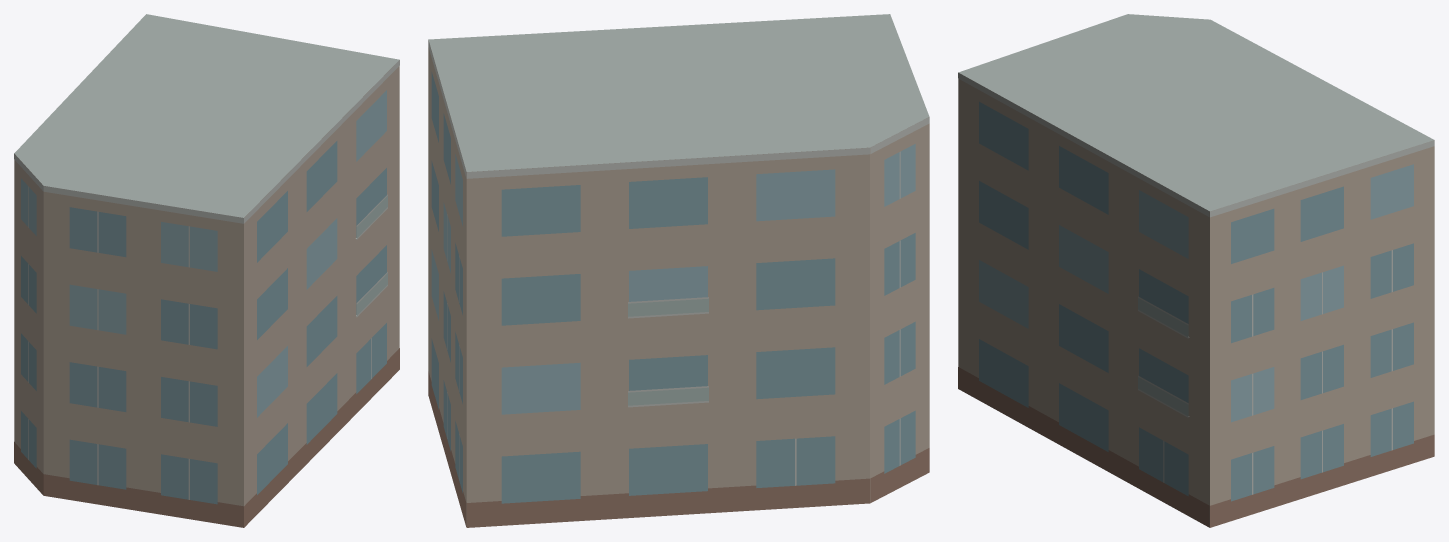
File: survey-upis-32774492.glb
3 renders of one model, left to right at view 1: azimuth 30°, elevation 25°; view 2: azimuth 150°, elevation 25°; view 3: azimuth 270°, elevation 25°, orthographic. The views are drawn at different scales.
Visible parts, largest first — view 1: survey-upis-32774492.tmp; view 2: survey-upis-32774492.tmp; view 3: survey-upis-32774492.tmp.
Boxes of the visible parts, x1,y1,x2,y2 form: survey-upis-32774492.tmp: (14,14,399,527); survey-upis-32774492.tmp: (428,14,929,527); survey-upis-32774492.tmp: (958,14,1434,527).
Size of the model in its own units: 17.14 by 12.8 by 17.48.
